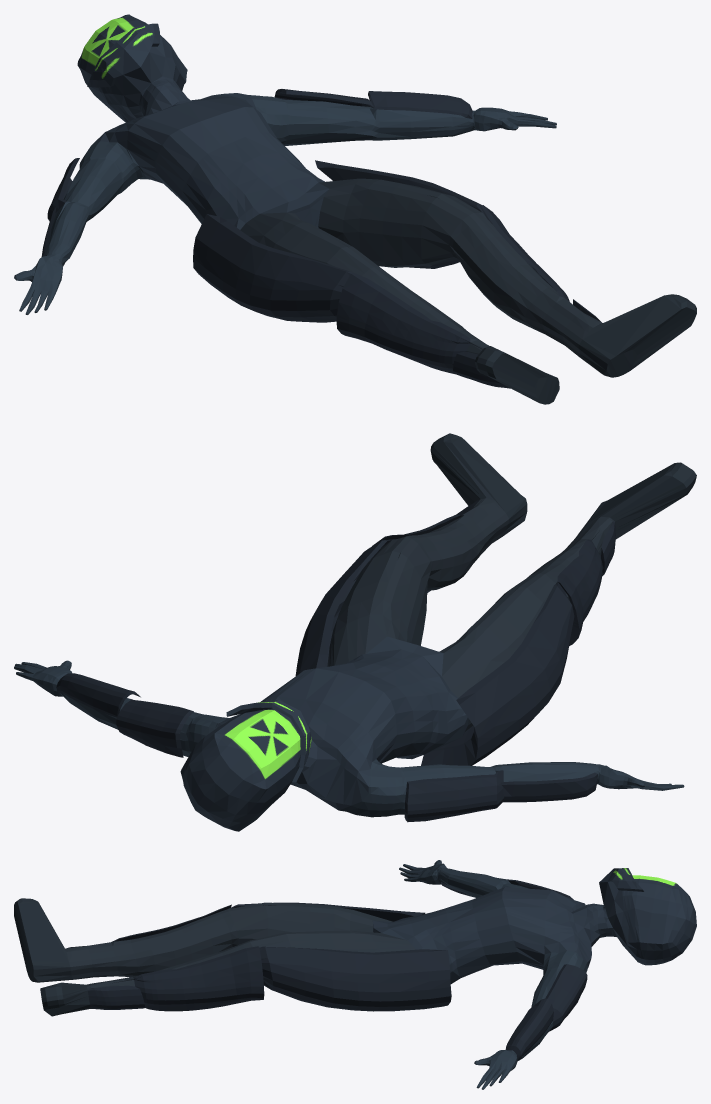
File: Bastion_Die_000013.obj
3 views of the same model, one above another, from view 1: azimuth 30°, elevation 25°; view 2: azimuth 150°, elevation 25°; view 3: azimuth 270°, elevation 25° (orthographic). The views are drawn at different scales.
Parts seen in each view (by area): view 1: Cube.002; view 2: Cube.002; view 3: Cube.002.
Part boxes in pixels (x1,y1,x2,y2): Cube.002: (14, 14, 696, 404); Cube.002: (14, 433, 696, 831); Cube.002: (14, 860, 696, 1089).
Size of the model in its own units: 3.17 by 0.7993 by 3.96.
